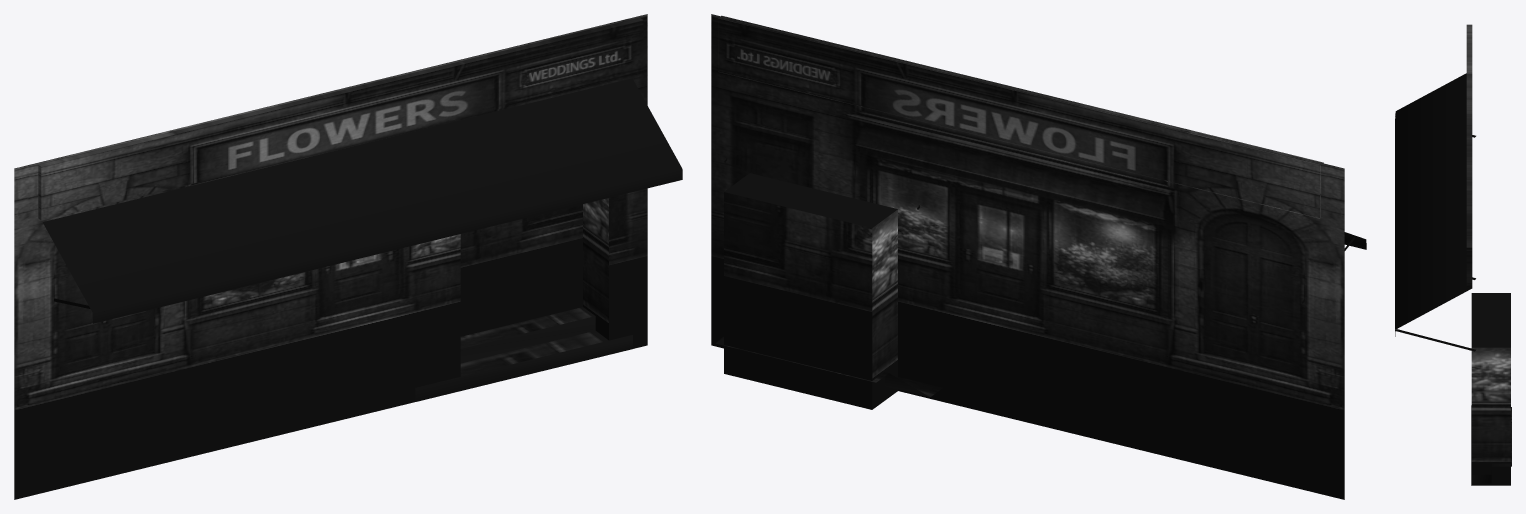
File: shop.obj
The picture shows the model from 3 angles, left to right: view 1: azimuth 30°, elevation 25°; view 2: azimuth 150°, elevation 25°; view 3: azimuth 270°, elevation 25°; orthographic projection. The views are drawn at different scales.
Parts seen in each view (by area): view 1: group; view 2: group; view 3: group.
Part boxes in pixels (x1,y1,x2,y2): group: (14,14,682,499); group: (711,14,1366,499); group: (1395,24,1511,485).
Bounding box in the file's own units: 10 × 5 × 2.11.
